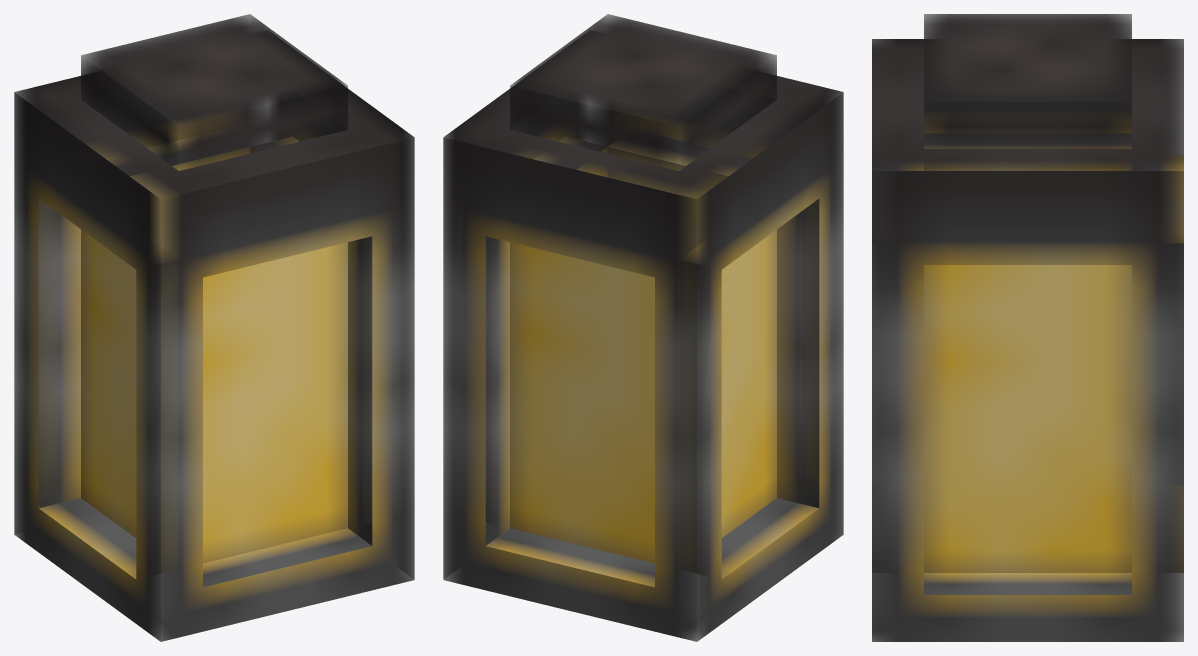
Rendered from Lamp.glb.
The picture shows the model from 3 angles, left to right: view 1: azimuth 30°, elevation 25°; view 2: azimuth 150°, elevation 25°; view 3: azimuth 270°, elevation 25°; orthographic projection. The views are drawn at different scales.
Visible parts, largest first — view 1: Lamp; view 2: Lamp; view 3: Lamp.
Boxes of the visible parts, bbox=[...] form: Lamp: bbox=[14, 14, 414, 641]; Lamp: bbox=[443, 14, 843, 641]; Lamp: bbox=[872, 14, 1183, 641].
Bounding box in the file's own units: 0.375 × 0.6875 × 0.375.
Materials: 1 (1 with a texture image).
